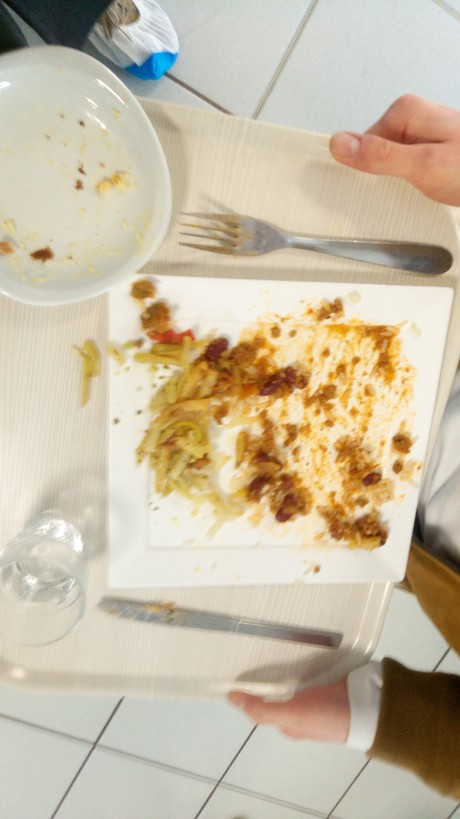cup: (1, 523, 94, 636)
cutlery: (173, 186, 456, 290), (88, 582, 350, 668)
orga: (135, 288, 394, 552)
